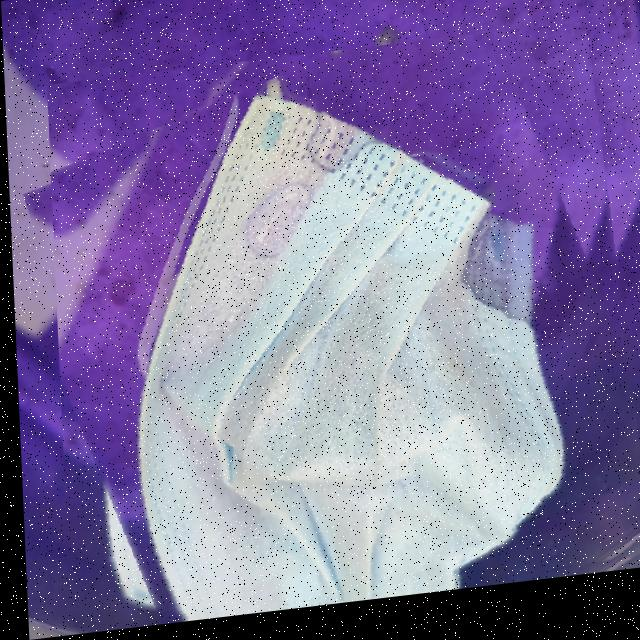mask: (45, 31, 640, 636)
